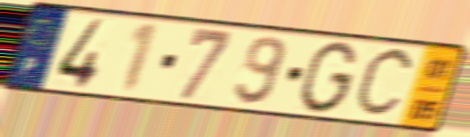1: (119, 20, 162, 96)
4: (53, 16, 107, 92)
7: (179, 24, 235, 103)
9: (232, 35, 287, 108)
C: (351, 44, 419, 122)
G: (295, 39, 361, 117)
